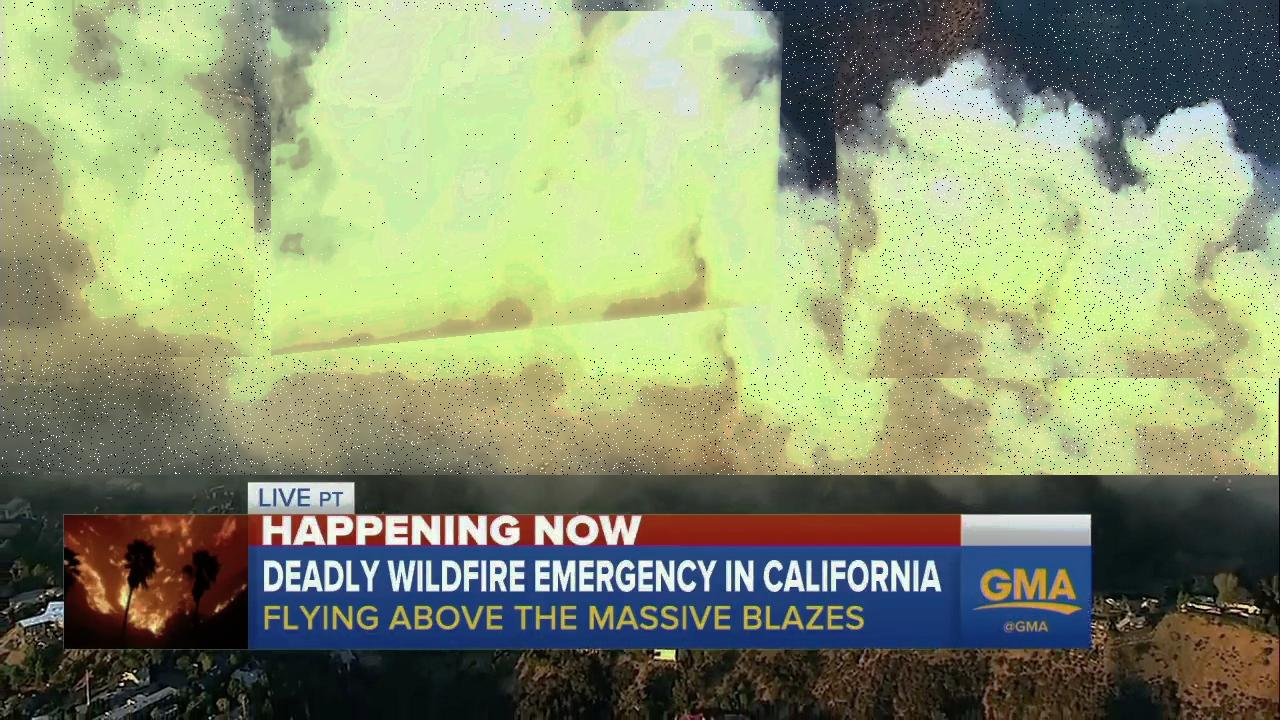smoke: (0, 2, 1278, 475), (271, 11, 786, 357), (831, 20, 1280, 378), (0, 10, 254, 357)
